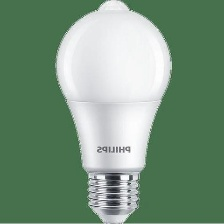light_bulb: (52, 0, 178, 224)
